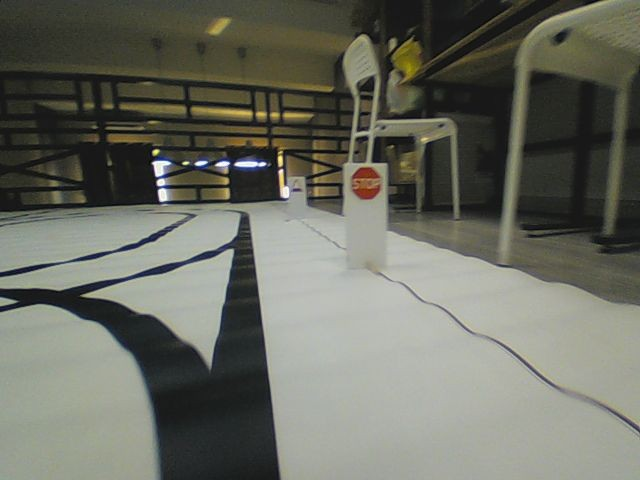Stop: (350, 165, 382, 200)
